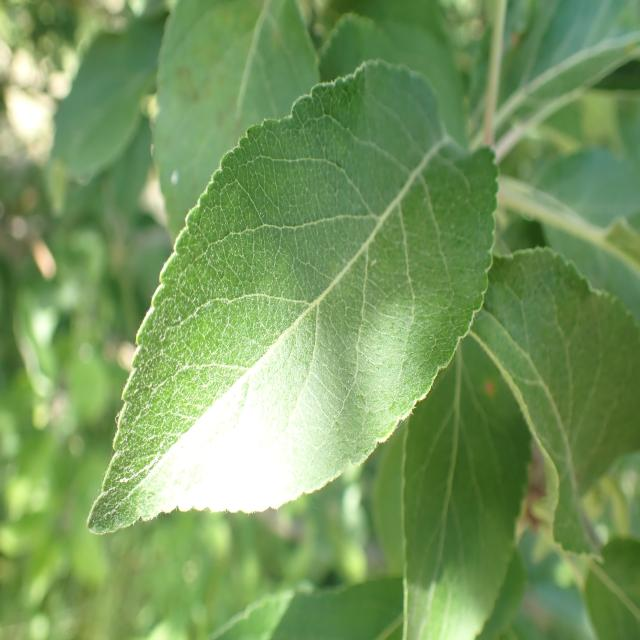healthy: (87, 56, 501, 539), (470, 244, 640, 555), (400, 292, 533, 639), (150, 0, 320, 250)
